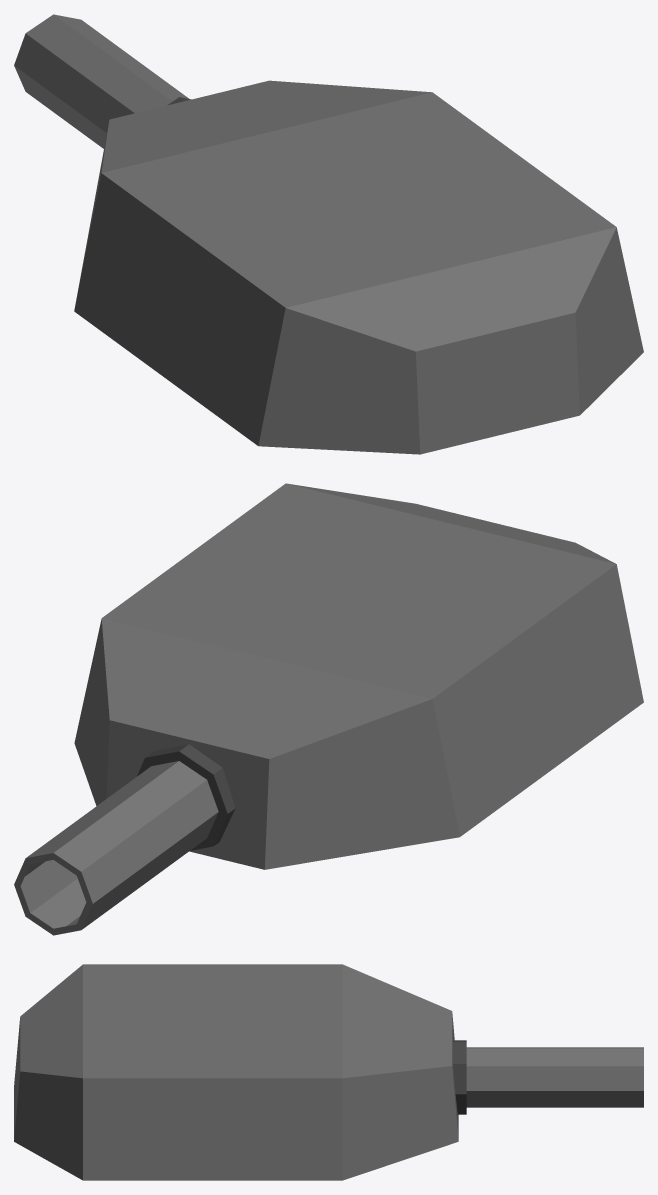
Rendered from Big2.fbx.
3 views of the same model, one above another, from view 1: azimuth 30°, elevation 25°; view 2: azimuth 150°, elevation 25°; view 3: azimuth 270°, elevation 25° (orthographic). The views are drawn at different scales.
Parts seen in each view (by area): view 1: Cube.005; view 2: Cube.005; view 3: Cube.005.
Boxes of the visible parts, x1=… form: Cube.005: x1=14, y1=14, x2=643, y2=454; Cube.005: x1=14, y1=483, x2=643, y2=935; Cube.005: x1=14, y1=964, x2=643, y2=1180.
Bounding box in the file's own units: 146 × 47.83 × 294.
1 material, 1 textured.
